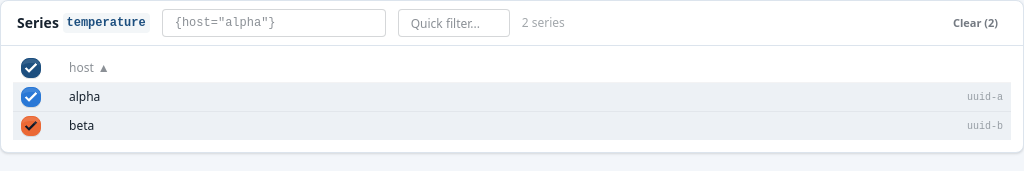
SeriesTable › counts the series in the row of the filters, and says when it is the page or the filter
expect the text "2 series" is shown: met, box [522,15,565,31]
Step 1. Type "beta" into the field with placeholder "Quick filter..." → (454, 23), box [398,9,510,37]
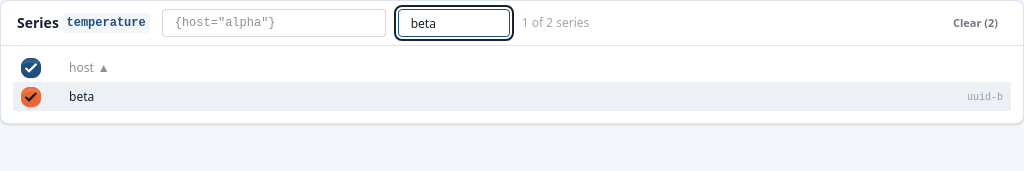
expect the text "1 of 2 series" is shown: met, box [522,15,589,31]
